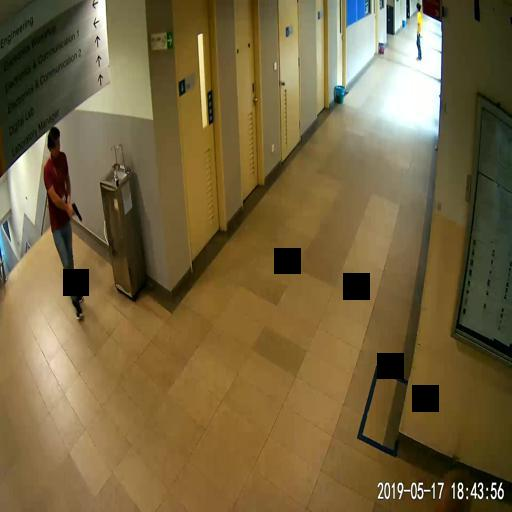Handgun: (68, 200, 81, 220)
